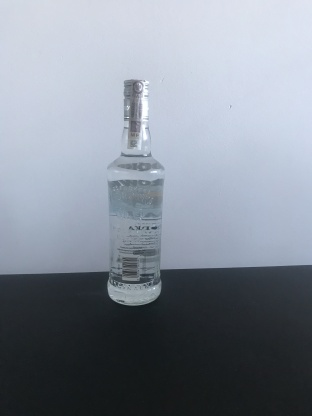nakretka: (120, 74, 152, 124)
